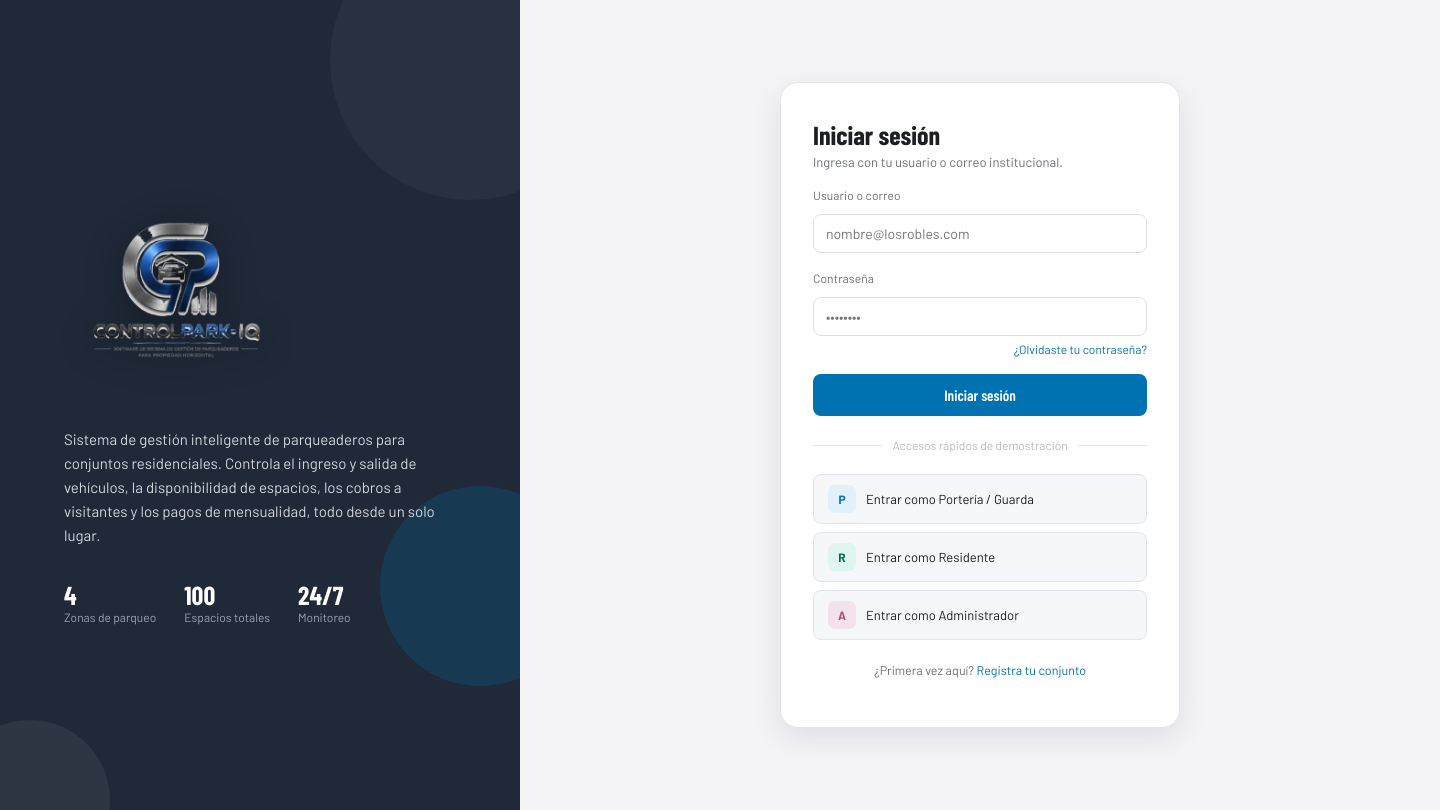
Test: acceso › rechaza credenciales incorrectas
Type "maria.torres" into the field labelled "Usuario o correo" at (980, 234), box [813, 214, 1147, 253]
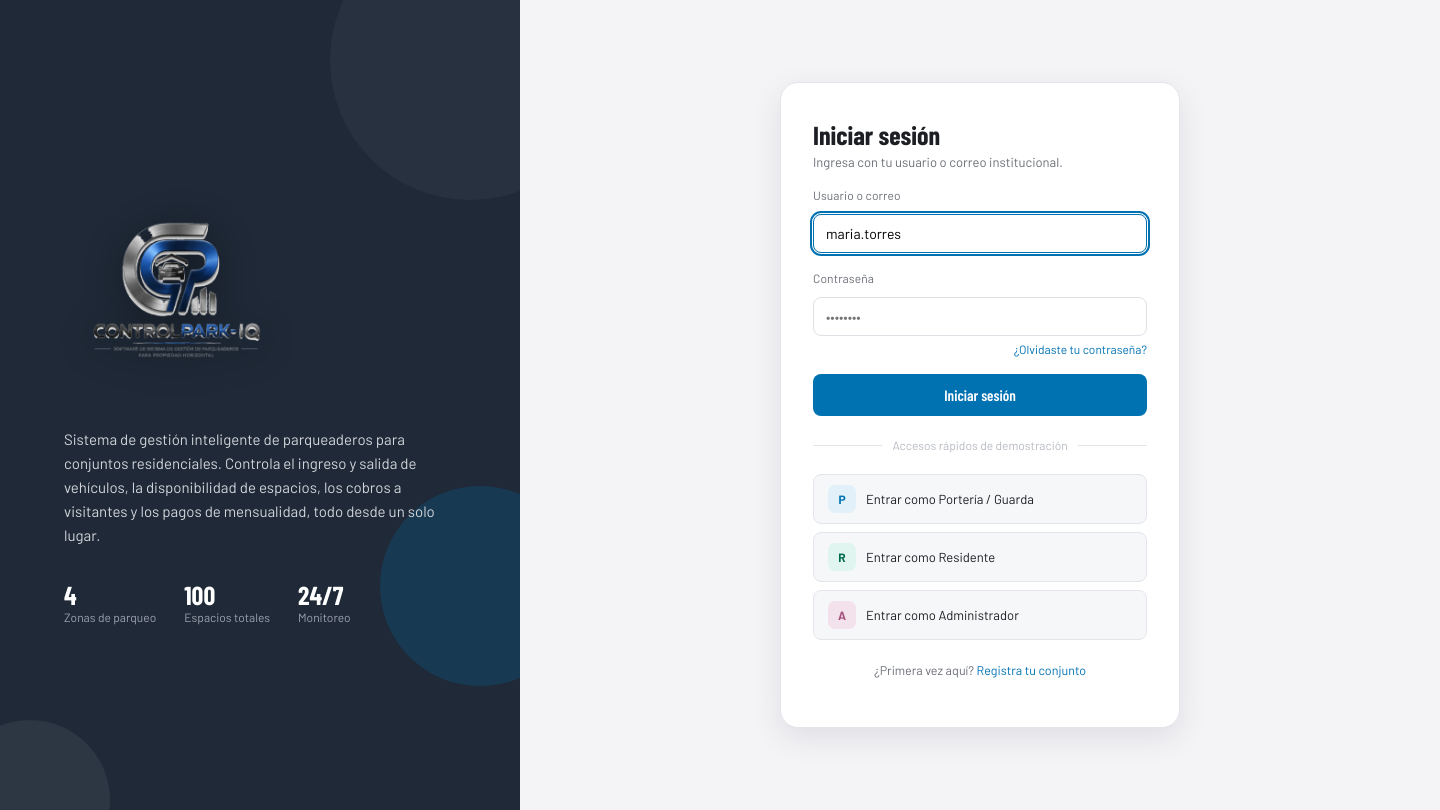
Type "mala" into the password field labelled "Contraseña" at (980, 317), box [813, 297, 1147, 336]
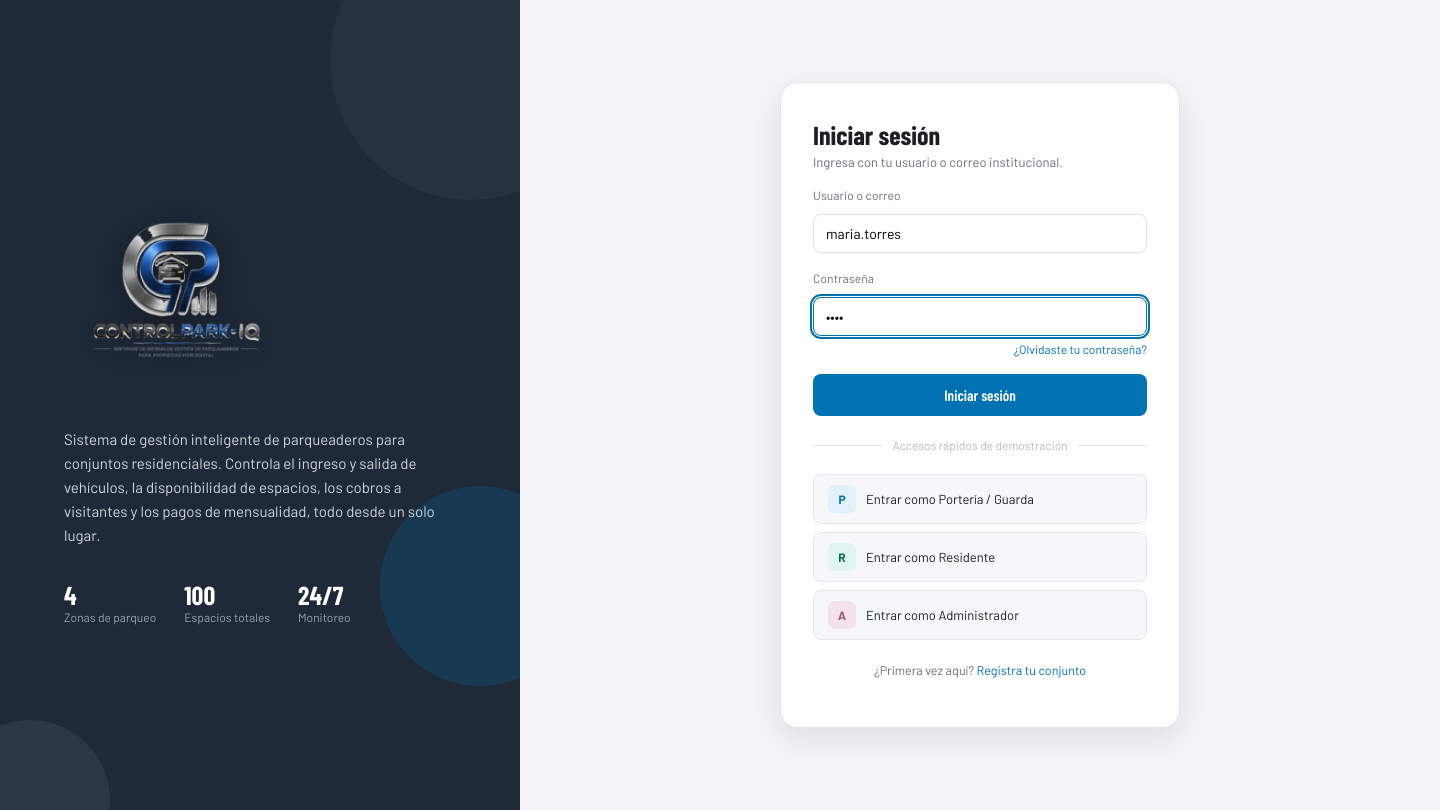
Click the button "Iniciar sesión" at (980, 395), box [813, 374, 1147, 416]
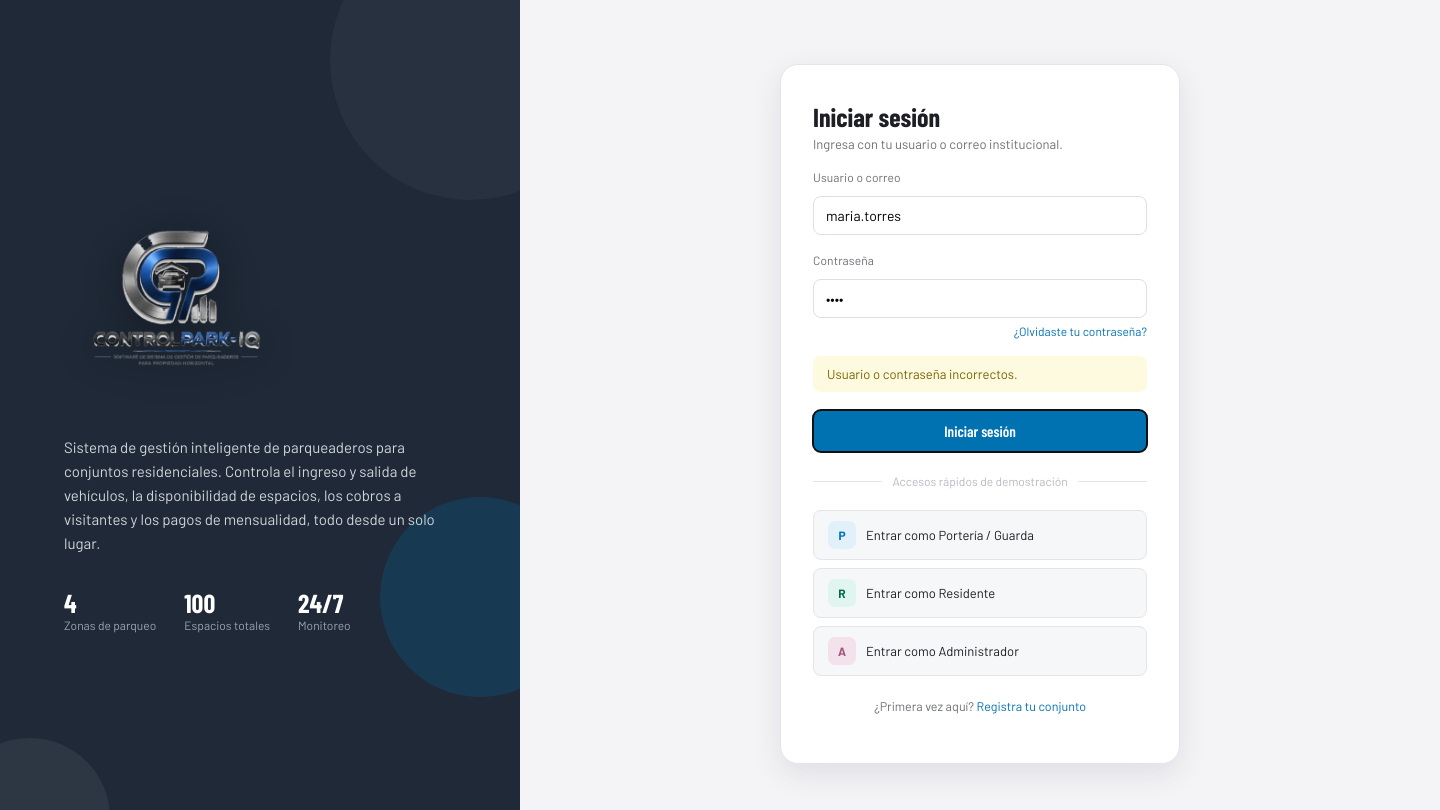
expect the message reads "Usuario o contraseña incorrectos.": met, box [827, 366, 1018, 382]
